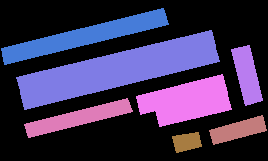parkingspot: (20, 44, 219, 109), (16, 30, 215, 93), (1, 8, 168, 64), (24, 98, 132, 137), (136, 74, 227, 114), (155, 91, 231, 126), (231, 45, 262, 105), (209, 115, 266, 144), (172, 132, 201, 152)
